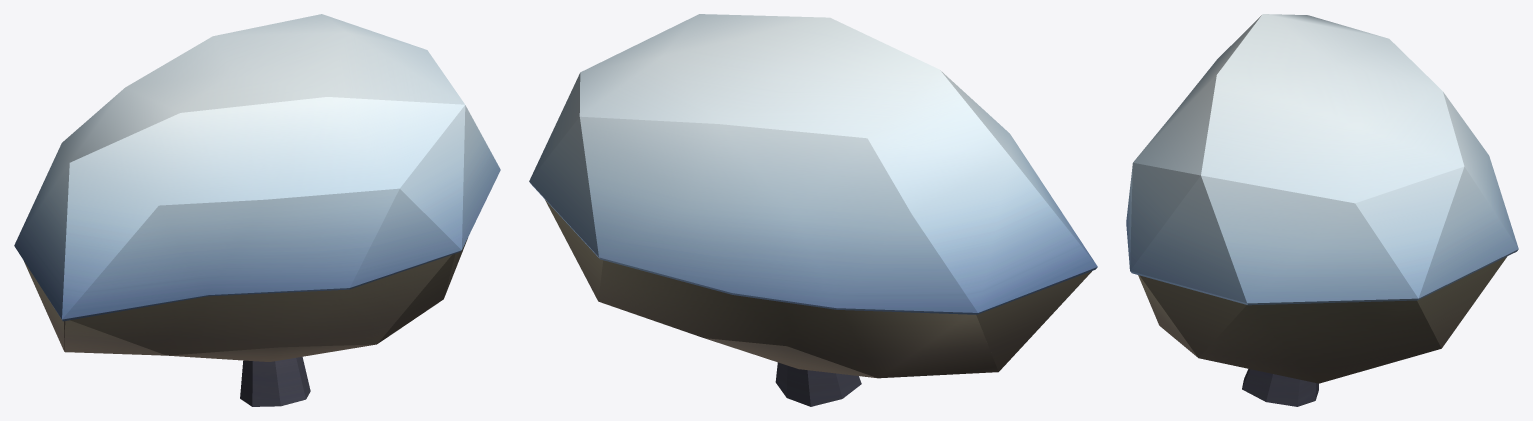
File: SM_Hedge_02.fbx
The picture shows the model from 3 angles, left to right: view 1: azimuth 30°, elevation 25°; view 2: azimuth 150°, elevation 25°; view 3: azimuth 270°, elevation 25°; orthographic projection. The views are drawn at different scales.
Visible parts, largest first — view 1: Laub-2.001; view 2: Laub-2.001; view 3: Laub-2.001.
Boxes of the visible parts, x1=… form: Laub-2.001: x1=14, y1=14, x2=500, y2=406; Laub-2.001: x1=529, y1=14, x2=1097, y2=406; Laub-2.001: x1=1126, y1=14, x2=1518, y2=406.
Bounding box in the file's own units: 518 × 356 × 383.
1 material, 1 textured.
